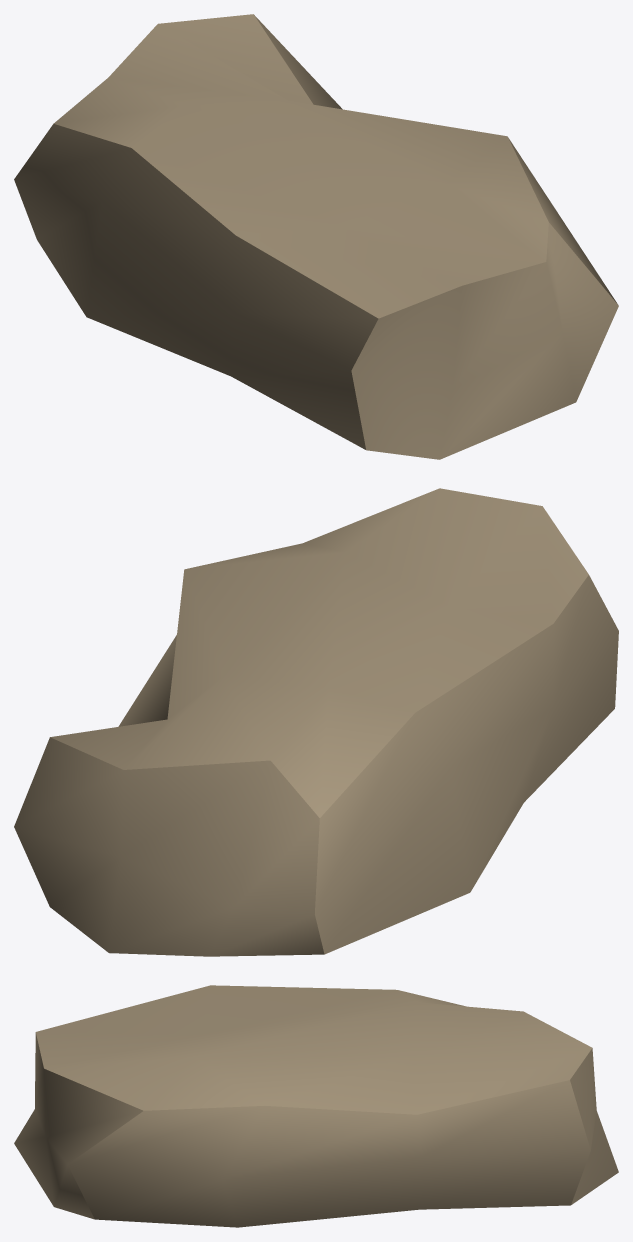
The model's file is rocks_slab_lrg.fbx.
3 views of the same model, one above another, from view 1: azimuth 30°, elevation 25°; view 2: azimuth 150°, elevation 25°; view 3: azimuth 270°, elevation 25° (orthographic). The views are drawn at different scales.
Visible parts, largest first — view 1: rocks_slab_lrg; view 2: rocks_slab_lrg; view 3: rocks_slab_lrg.
Boxes of the visible parts, x1,y1,x2,y2 form: rocks_slab_lrg: (14, 14, 618, 459); rocks_slab_lrg: (14, 488, 618, 956); rocks_slab_lrg: (14, 985, 618, 1227).
Size of the model in its own units: 62.22 by 27.66 by 109.
